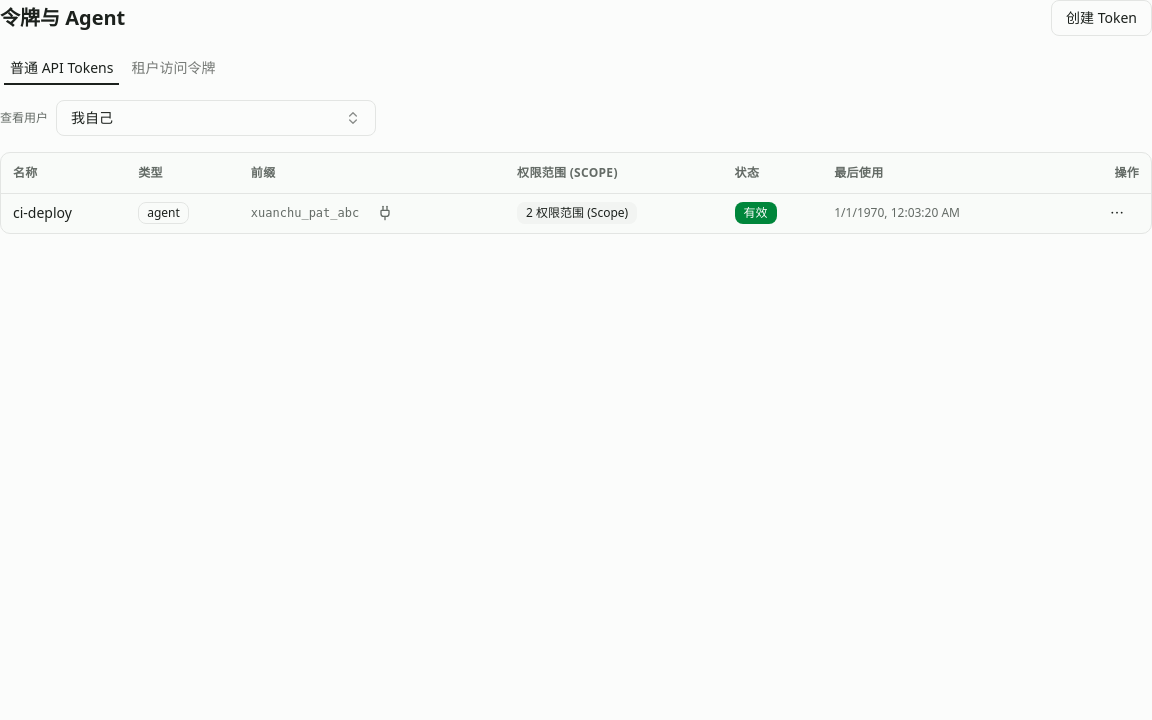
Test: TokensPage › shows secret unavailable message from MCP config dialog
Click the button named "MCP 配置：ci-deploy" at (385, 213), box [367,195,403,231]
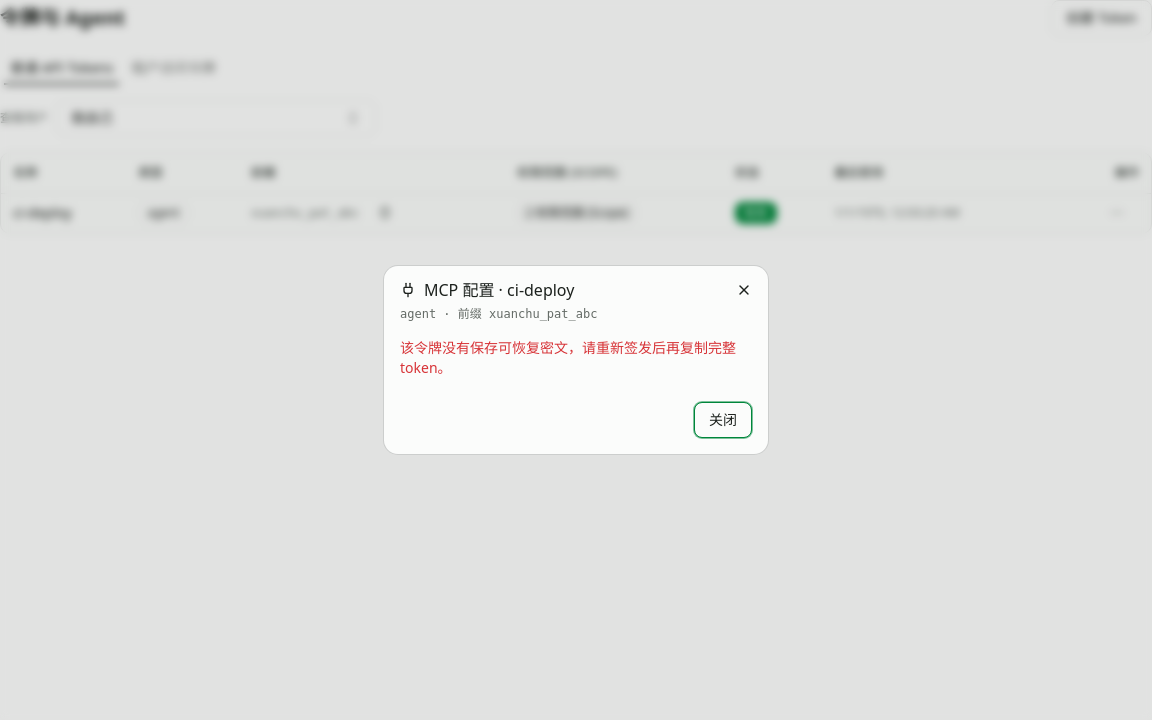
Expected: the text "该令牌没有保存可恢复密文，请重新签发后再复制完整 token。" is shown, [400,338,752,378]
